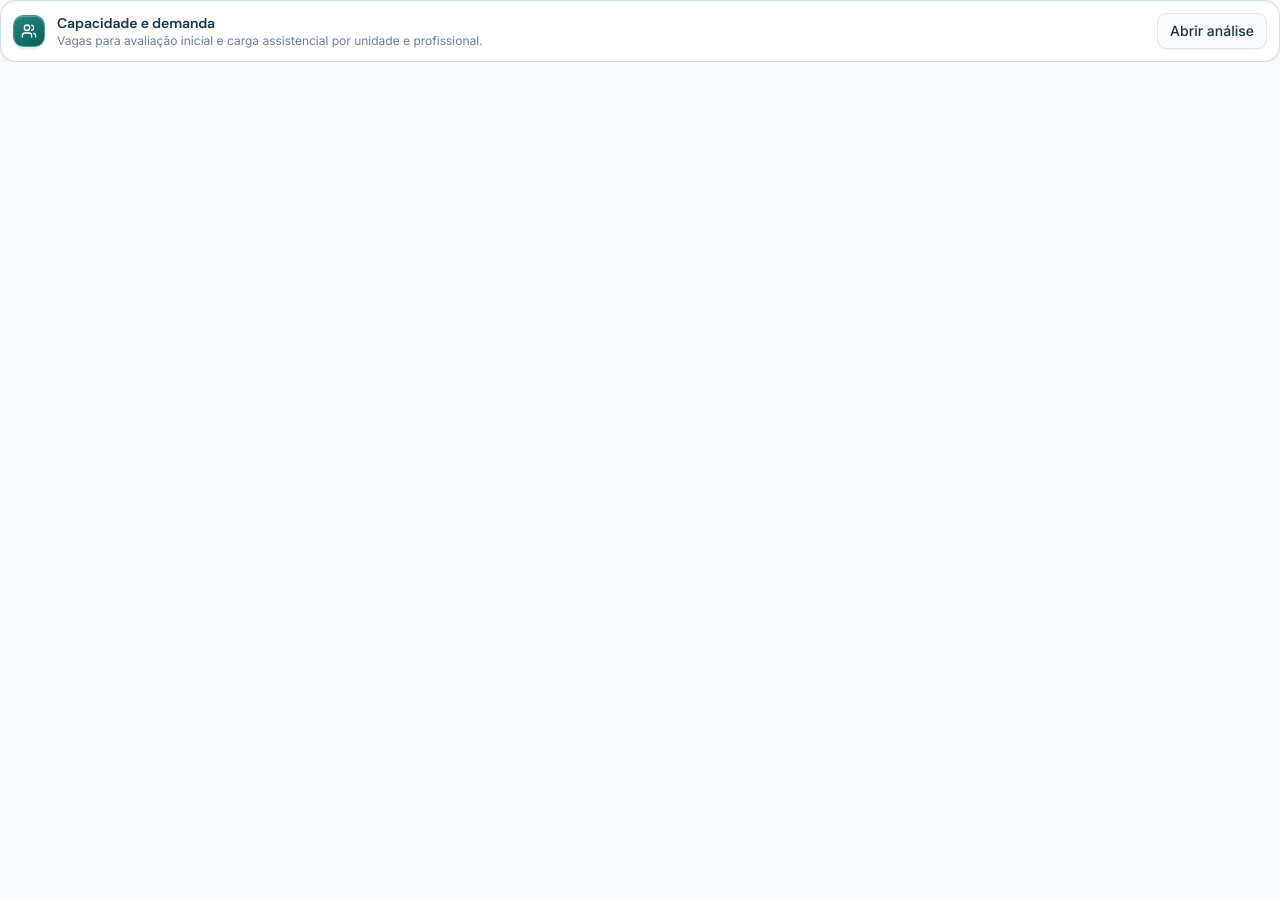
Test: capacidade e demanda: carregamento estável › mantém a análise e evita novas consultas ao mudar o simulador ou recriar dependências do contexto
Later steps or results of the test are not shown.
What coordinates should you click on to do the following:
click the button "Abrir análise"
I would click on:
 (1212, 31)
Its box is [1157,13,1267,49].
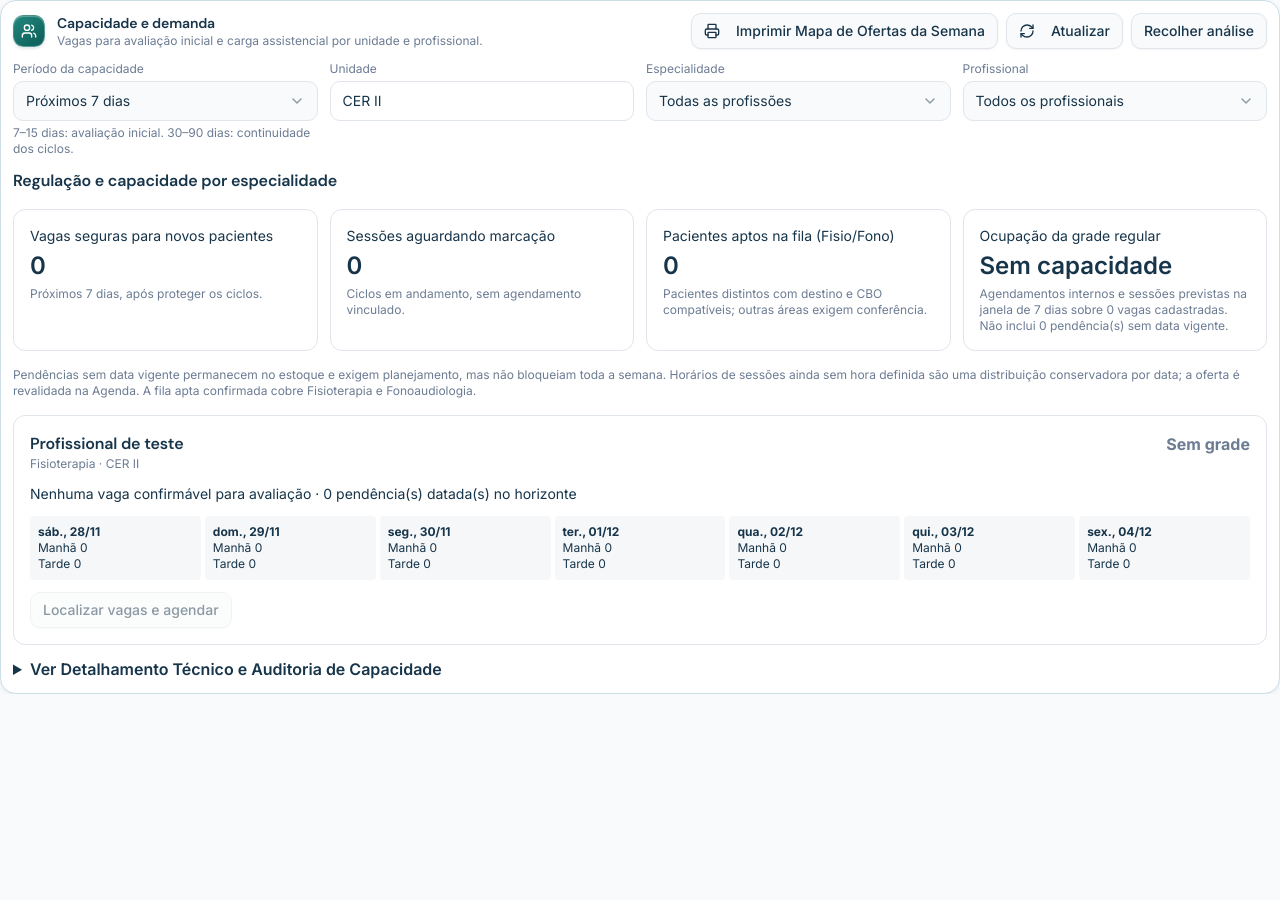
Check: the text "Vagas seguras para novos pacientes" is shown, box [30,226,300,246]
